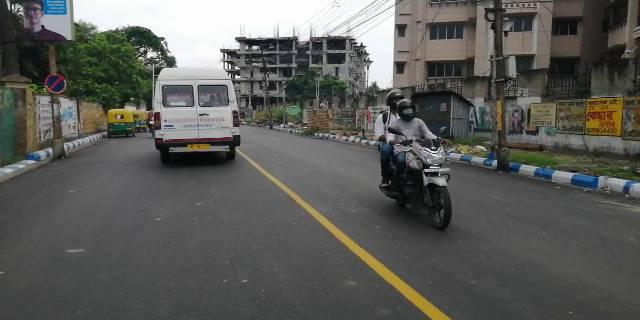Autorickshaw: (102, 105, 138, 141)
Motorbike: (370, 85, 458, 233)
Van: (147, 61, 245, 167)
